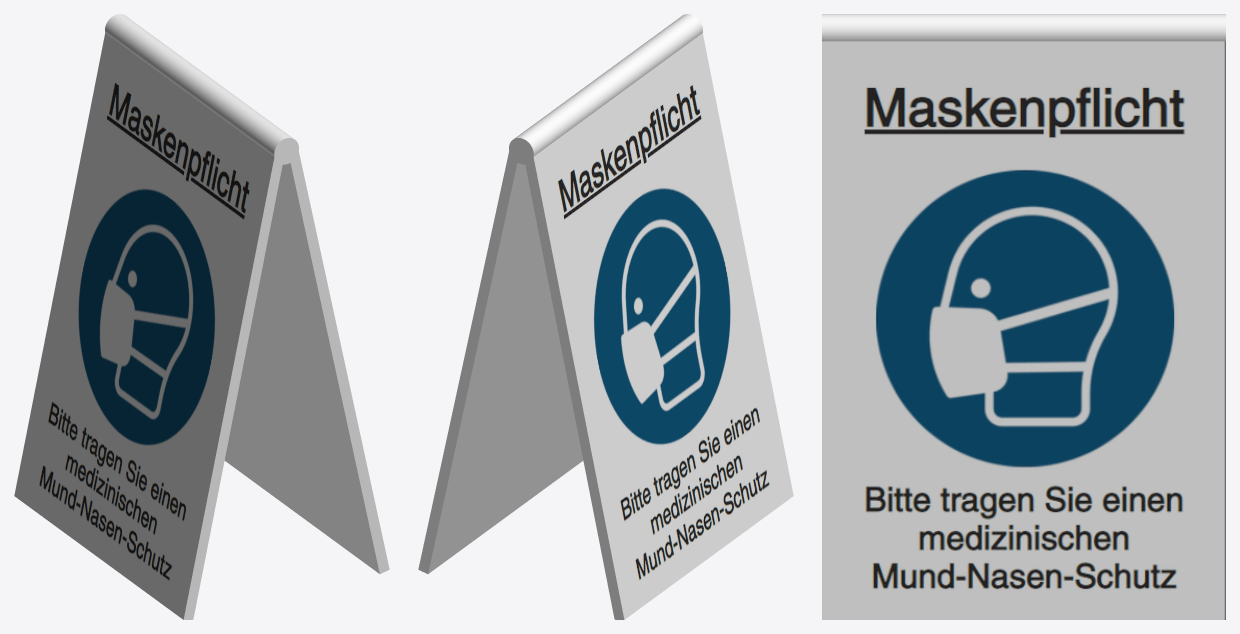
Rendered from corona.fbx.
3 renders of one model, left to right at view 1: azimuth 30°, elevation 25°; view 2: azimuth 150°, elevation 25°; view 3: azimuth 270°, elevation 25°, orthographic. The views are drawn at different scales.
Parts seen in each view (by area): view 1: Cylinder; view 2: Cylinder; view 3: Cylinder.
Part boxes in pixels (x1=…): Cylinder: x1=14, y1=14, x2=389, y2=619; Cylinder: x1=418, y1=14, x2=793, y2=619; Cylinder: x1=822, y1=14, x2=1225, y2=619.
Bounding box in the file's own units: 517 × 1099 × 735.
